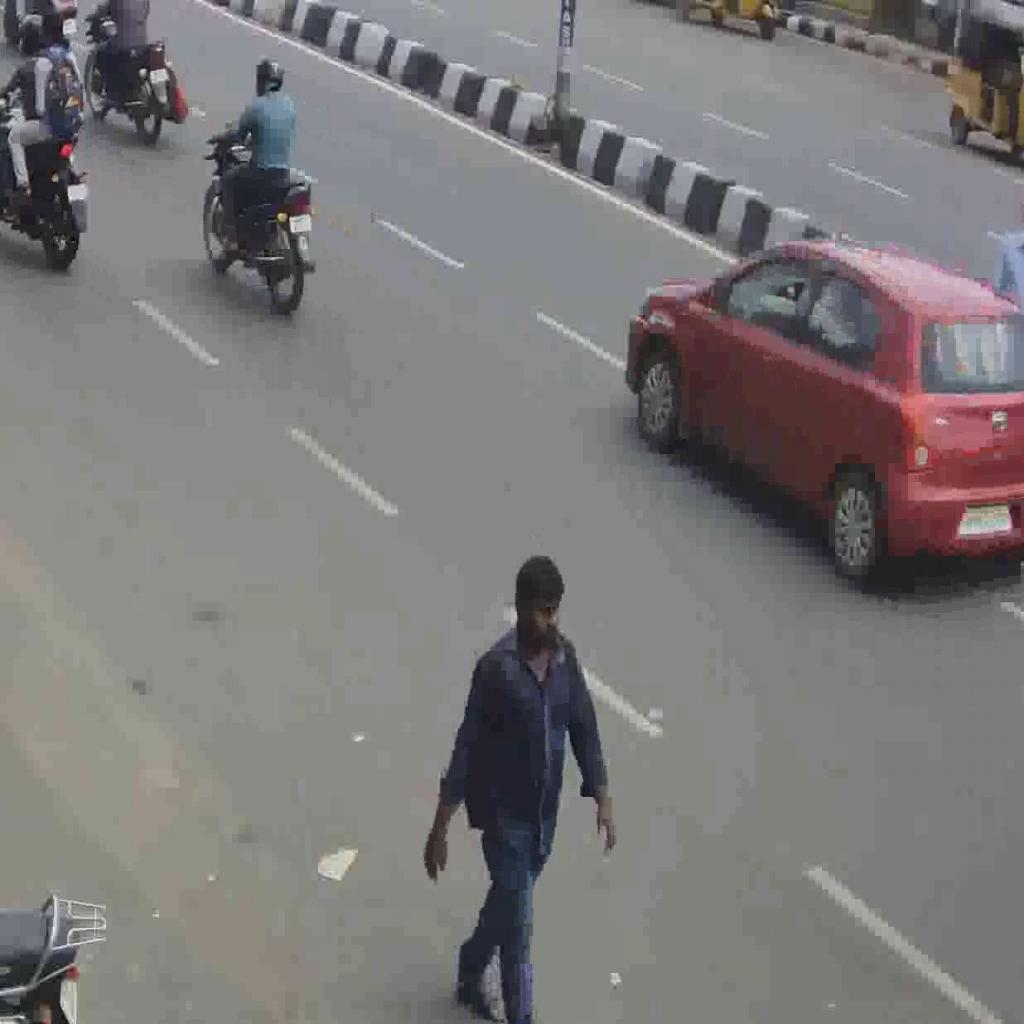helmet: (202, 119, 318, 317), (0, 97, 92, 270)
